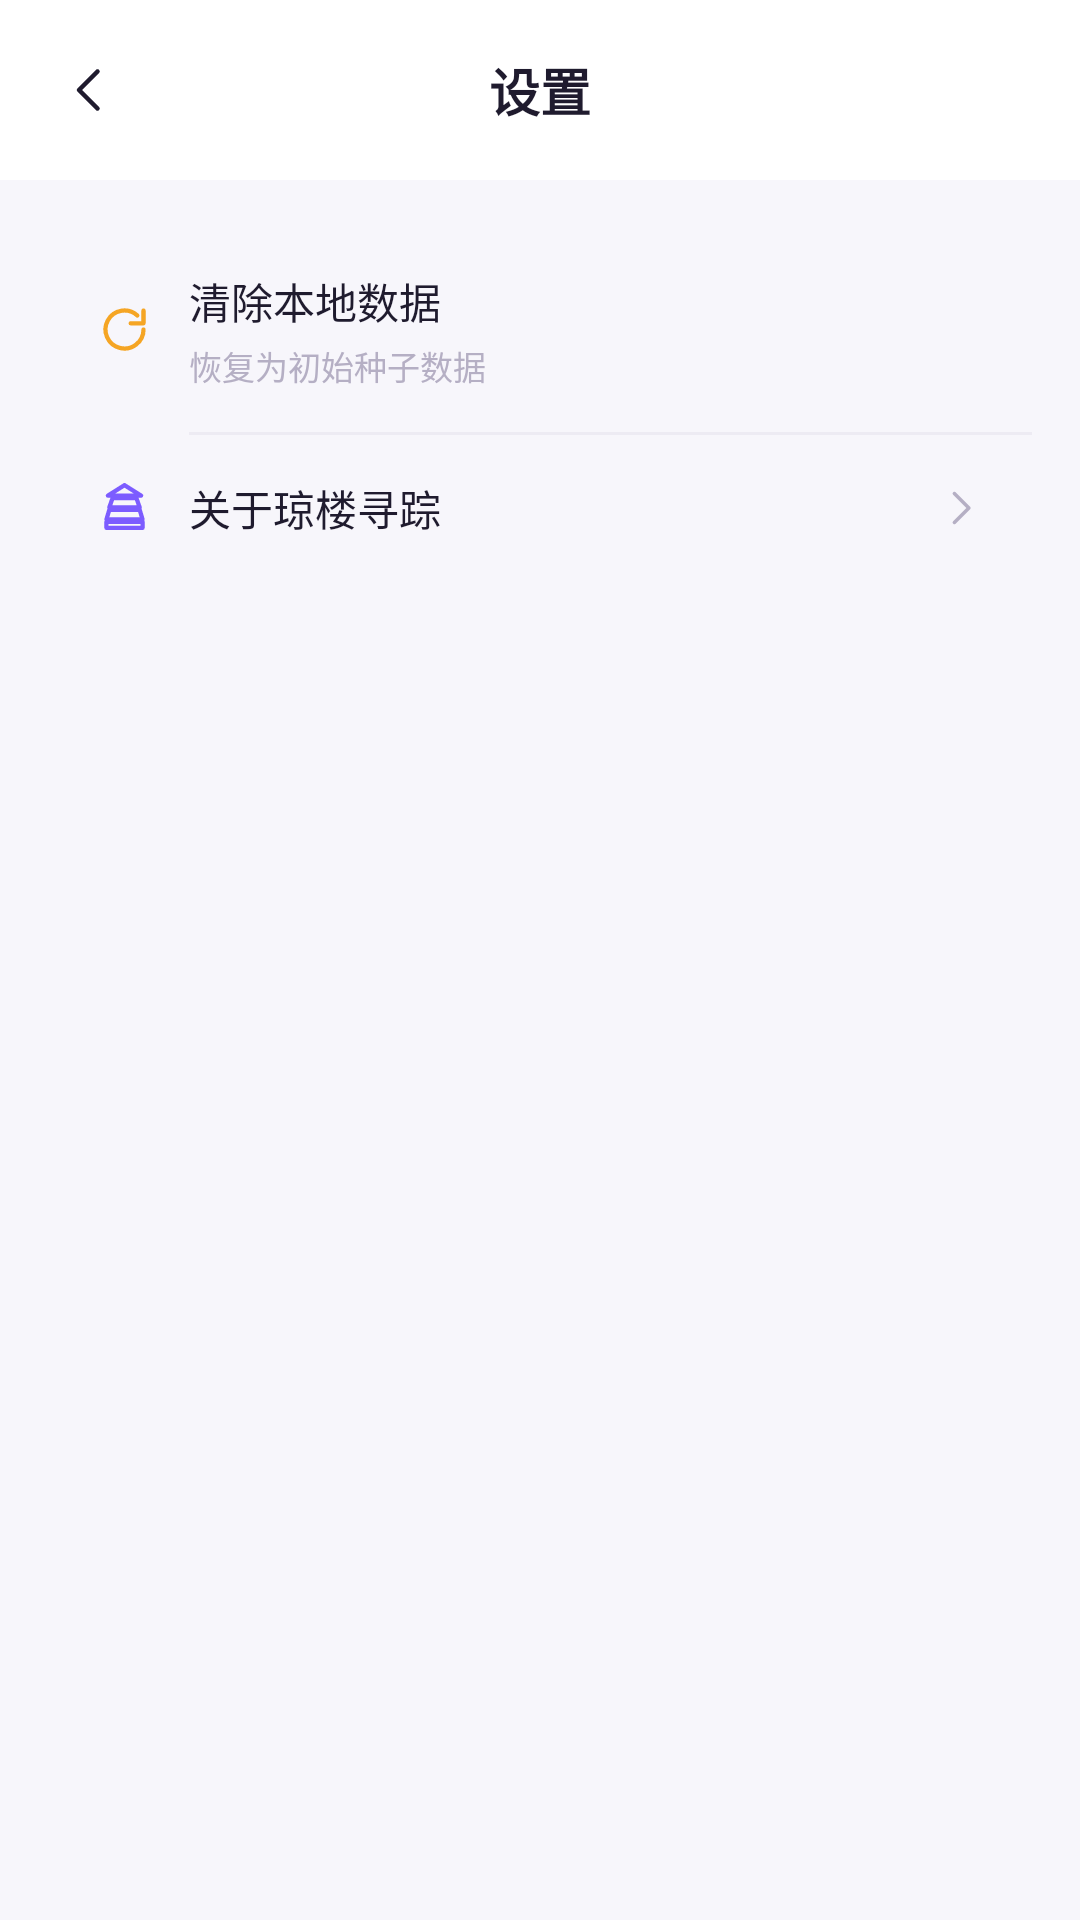

Screen size 1080 × 1920. Icon name, then its box in pixels as (x1, y1, x2, y2):
chevron right: (952, 492, 971, 524)
pagoda: (104, 483, 145, 530)
返回: (76, 69, 100, 111)
